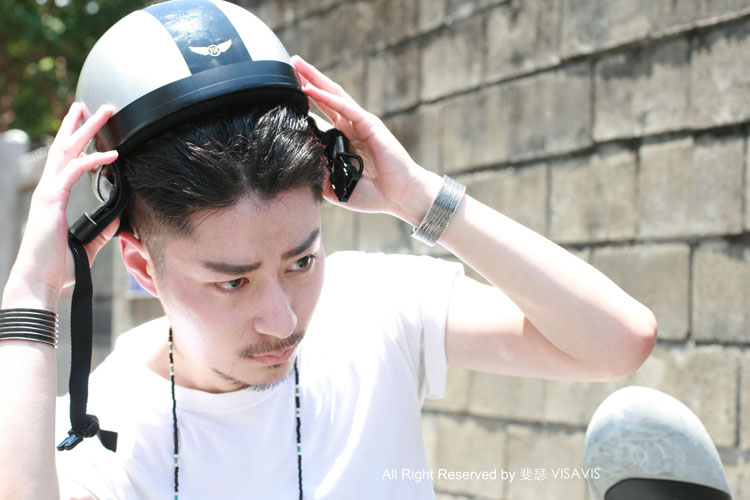helmet: (53, 10, 331, 164)
